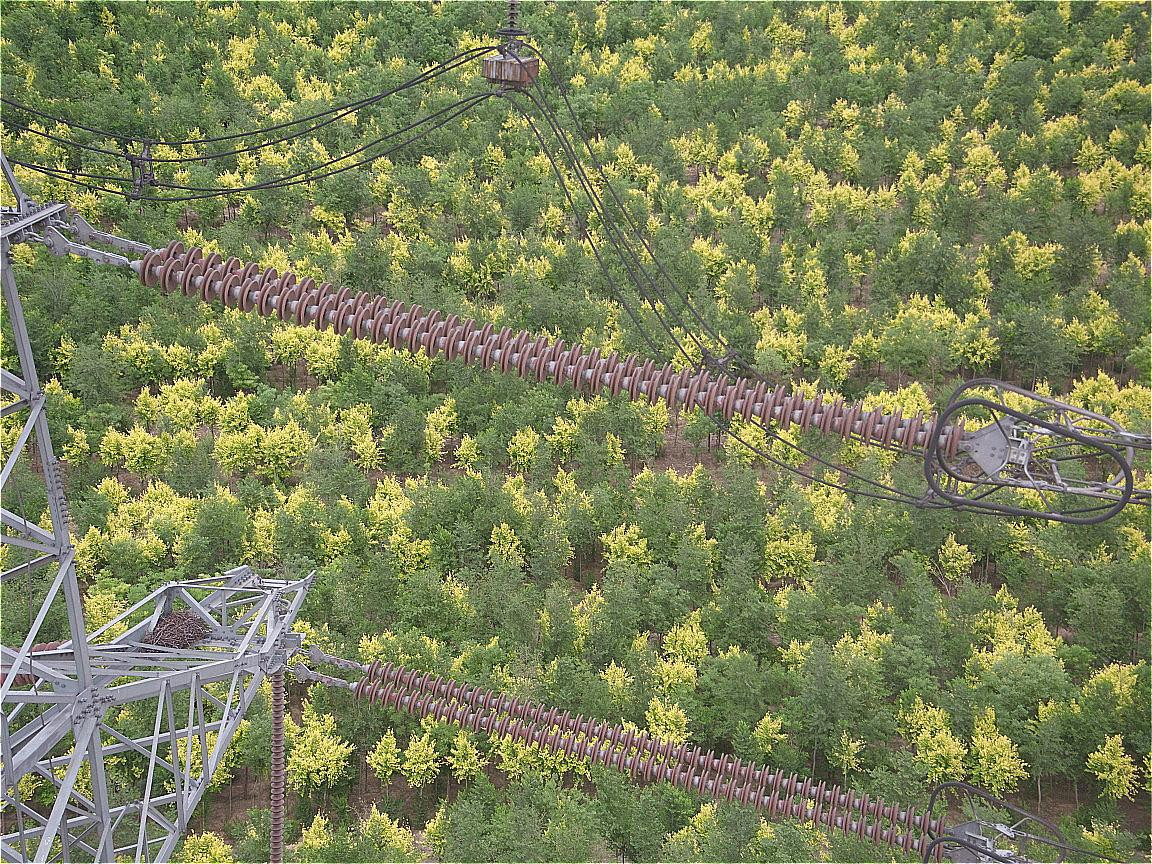insultor1: (266, 672, 290, 861)
insultor2: (140, 239, 967, 462), (354, 662, 949, 858)
